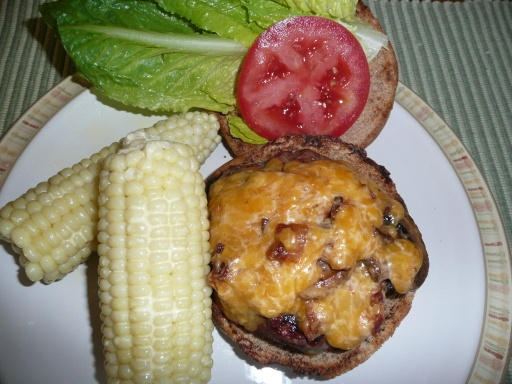background: (0, 0, 344, 230)
